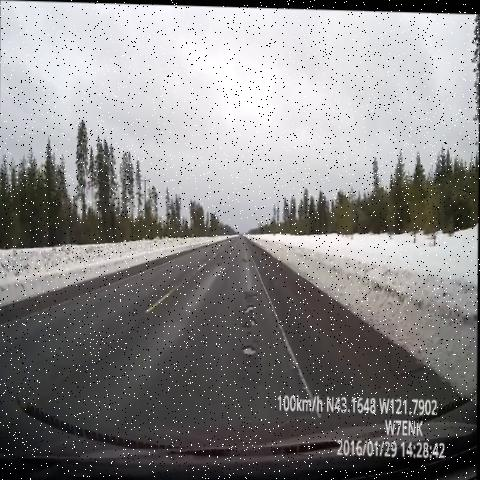pothole: (237, 287, 264, 331), (238, 337, 264, 369), (214, 245, 234, 269), (242, 249, 254, 268)
